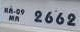character: (66, 13, 77, 26), (33, 10, 43, 22), (44, 11, 53, 23), (55, 12, 64, 24), (14, 15, 20, 21), (8, 15, 14, 20), (4, 7, 9, 12), (20, 9, 25, 14), (16, 8, 20, 14), (9, 8, 13, 13)
